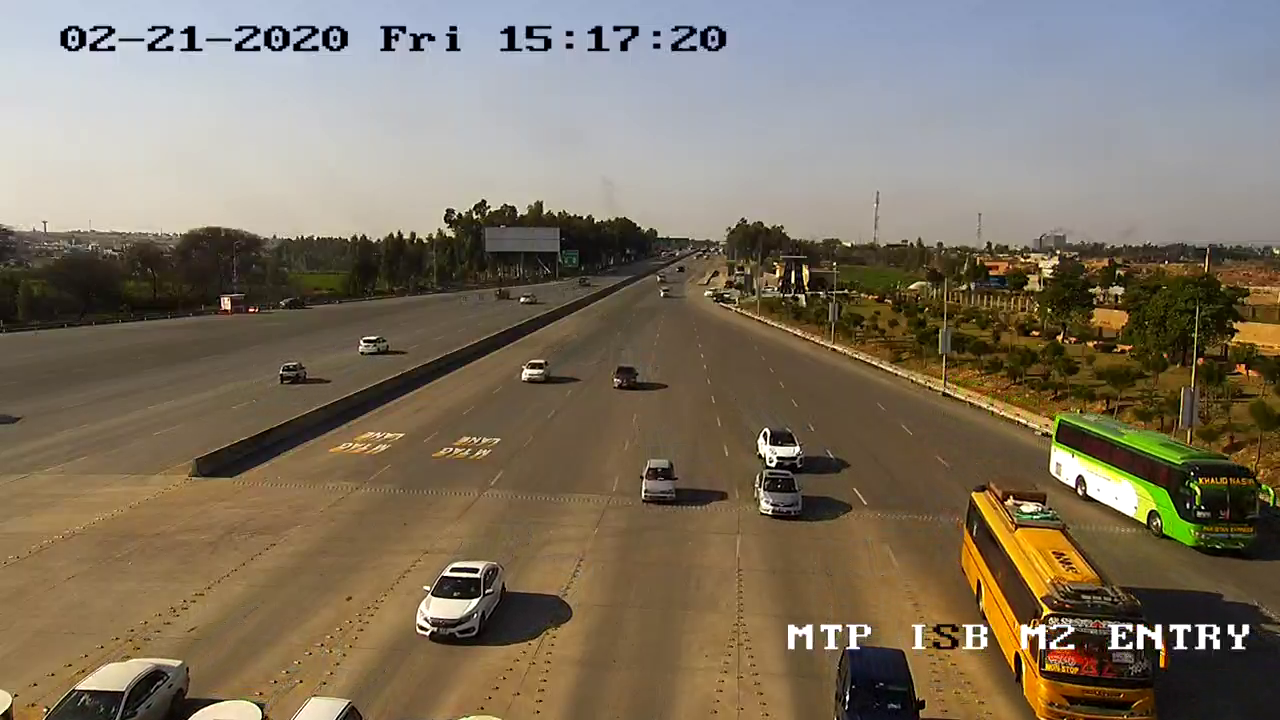f1: (408, 551, 521, 652), (740, 462, 813, 524), (628, 456, 688, 511)
f4: (946, 479, 1149, 720), (1042, 408, 1272, 557)
